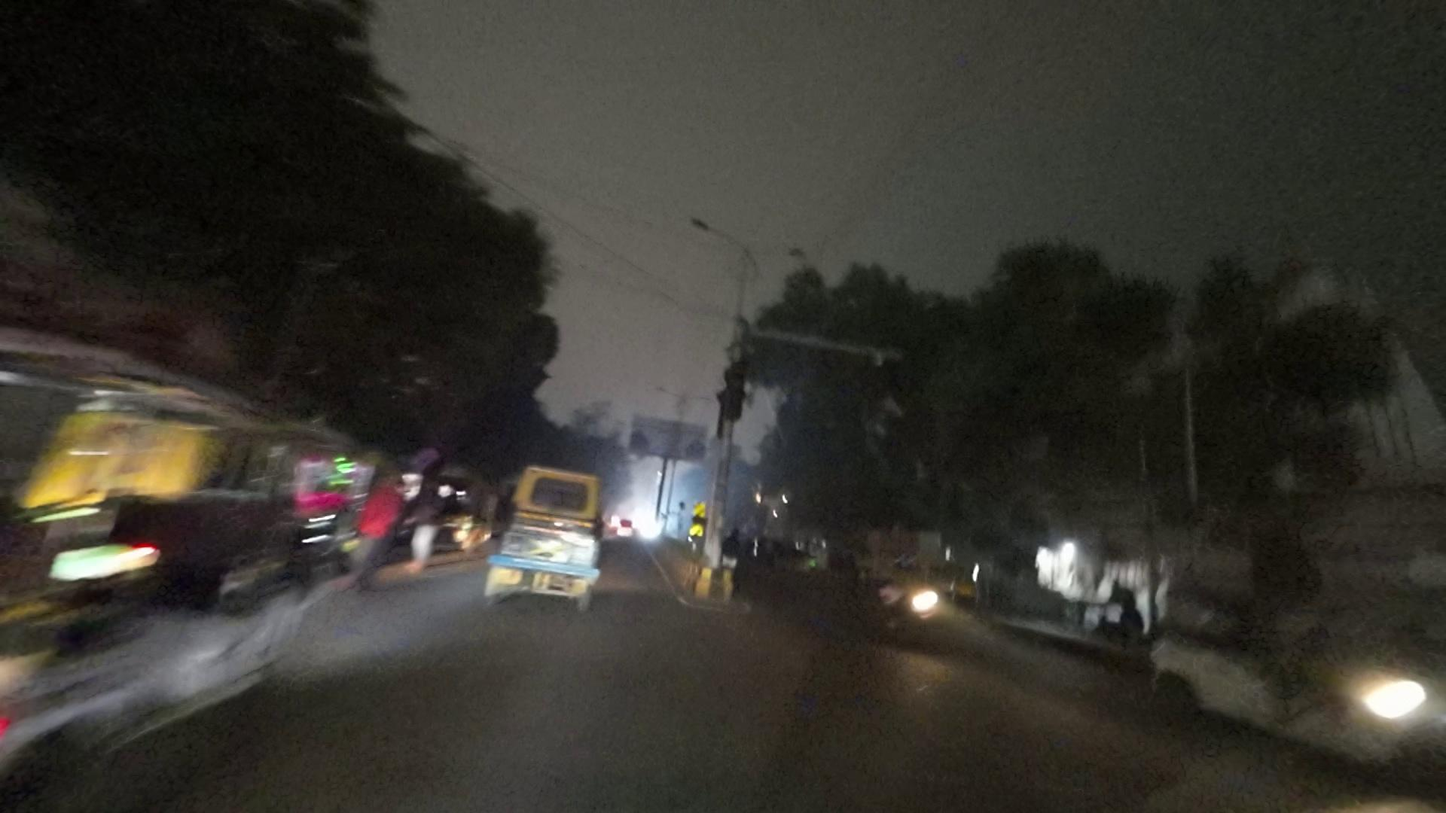streetlight: (689, 214, 748, 250), (748, 241, 811, 265)
